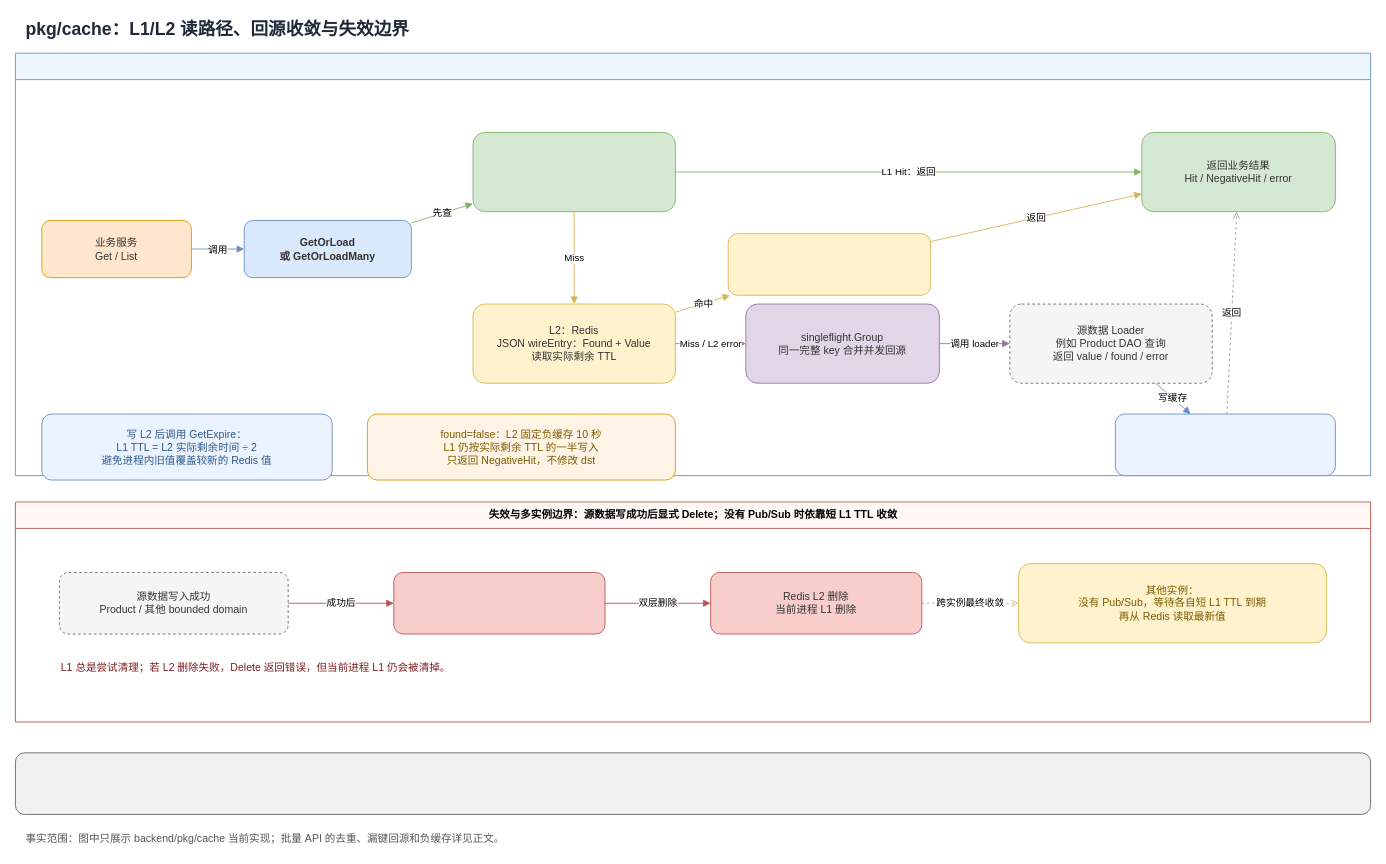
Some shapes in this 1386 by 864 pixel diagram are drawn without their labels. The box of each missing label's shape, as (x1, y1, x2, y2) in pixels:
Cache.Delete(key...) 清理 L2 与 L1: (393, 572, 605, 634)
L1：GoFrame gcache LRU 进程内原值；默认容量 10,000 命中不访问 Redis: (472, 132, 675, 212)
L2 命中 反序列化 + 补填 L1 返回业务结果: (727, 233, 931, 295)
回源成功 Set L2，再按实际 TTL 填 L1: (1115, 413, 1335, 476)
指标：请求按 namespace / layer / outcome 计数；loader 时延直方图；singleflight shared 次数: (15, 752, 1371, 814)
读路径与回源：先查进程内 L1，再查 Redis L2，最后按需加载源数据: (15, 52, 1371, 476)
